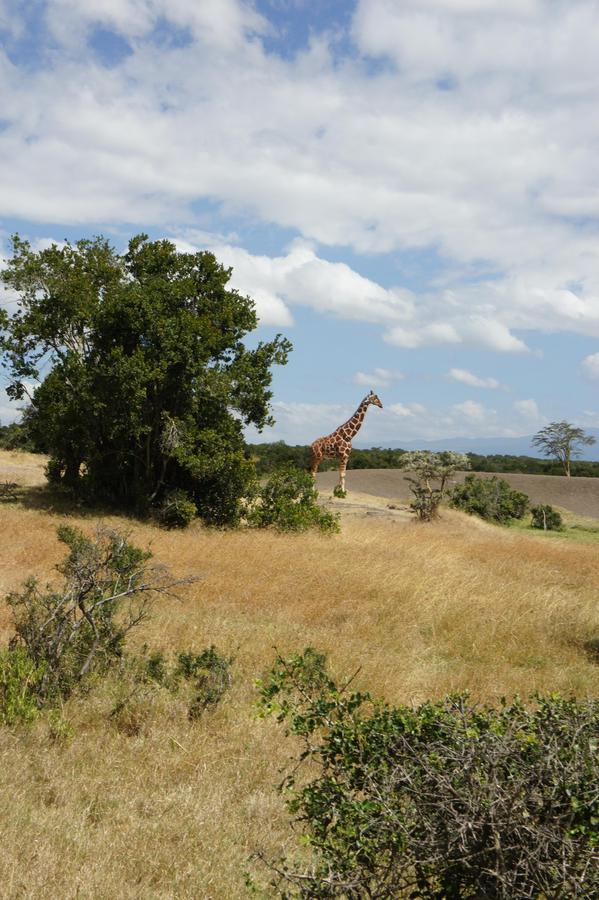giraffe: (295, 386, 383, 503)
